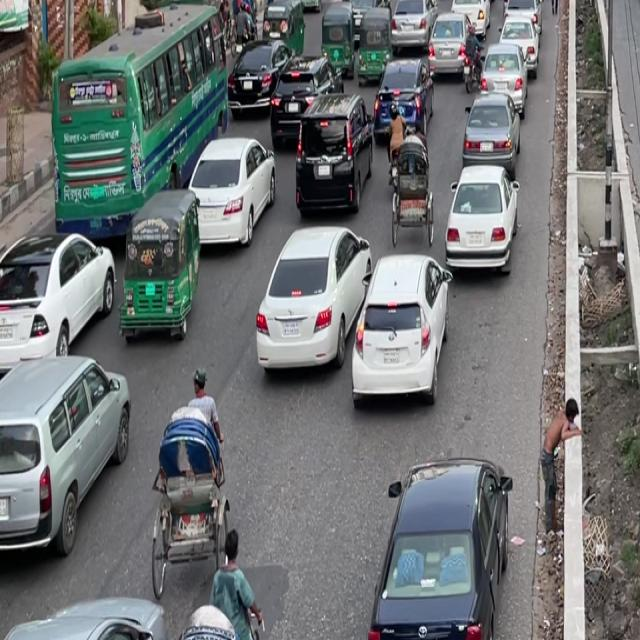car: (0, 340, 143, 579), (361, 444, 519, 636), (245, 212, 376, 392), (1, 213, 123, 387), (345, 237, 458, 418), (176, 122, 281, 259), (439, 153, 522, 287), (292, 94, 370, 224), (459, 84, 523, 176), (374, 52, 434, 147), (221, 41, 284, 124), (267, 59, 324, 146), (484, 36, 530, 112), (426, 8, 468, 88), (495, 1, 541, 72), (385, 0, 432, 56), (454, 0, 491, 40), (341, 0, 386, 21)
rickshaw: (110, 188, 203, 352), (384, 120, 436, 236), (352, 5, 393, 88), (318, 0, 354, 76), (289, 0, 326, 15)
